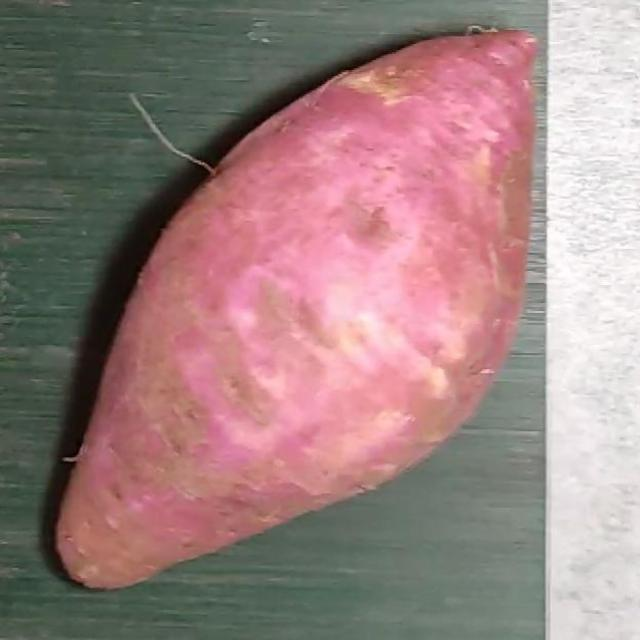Sweet Potato: (51, 28, 538, 593)
